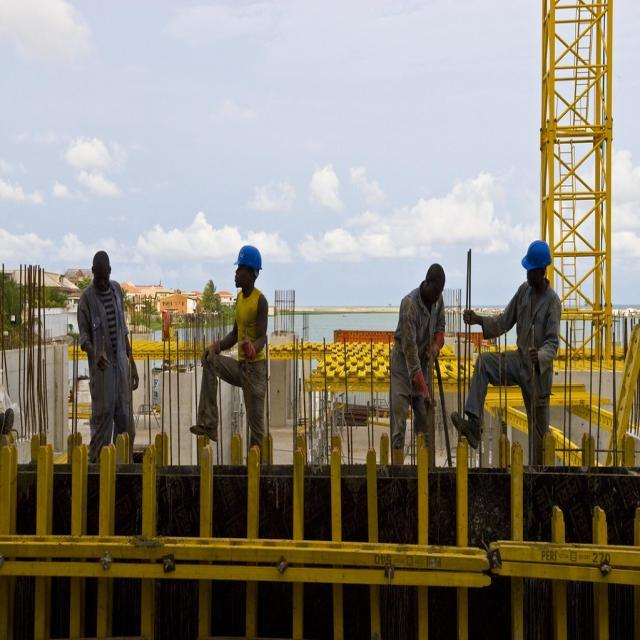Gloves: (412, 365, 432, 427), (425, 334, 451, 360), (200, 339, 224, 366), (242, 337, 257, 364)
Helmet: (509, 240, 551, 272), (231, 241, 265, 273)
